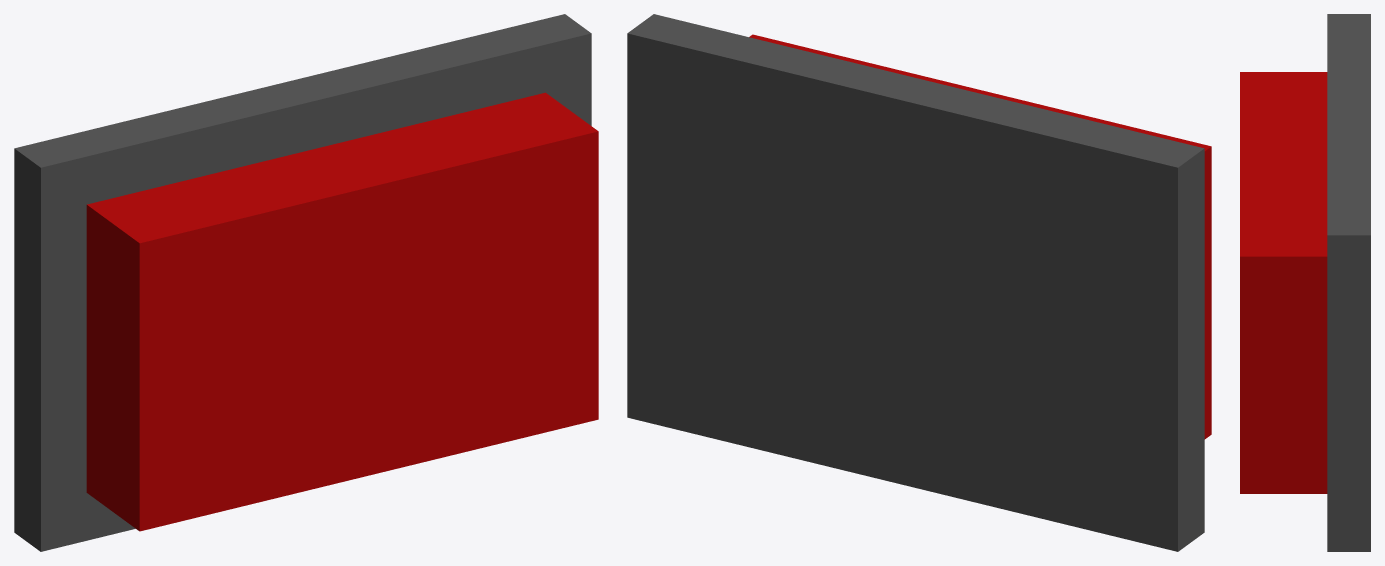
File: button.obj
The picture shows the model from 3 angles, left to right: view 1: azimuth 30°, elevation 25°; view 2: azimuth 150°, elevation 25°; view 3: azimuth 270°, elevation 25°; orthographic projection. The views are drawn at different scales.
Size of the model in its own units: 1.2 by 0.8 by 0.3.
1 material, 1 textured.
